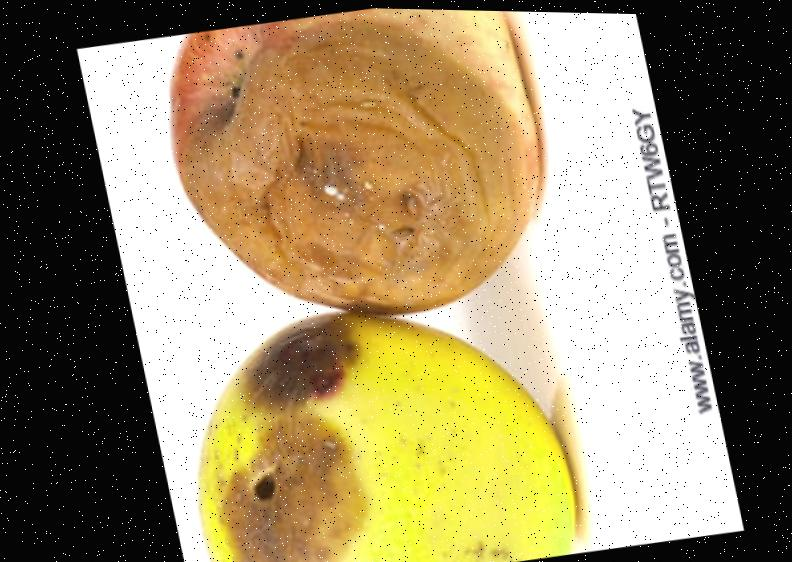ROT: (84, 2, 580, 363), (156, 294, 609, 562)
